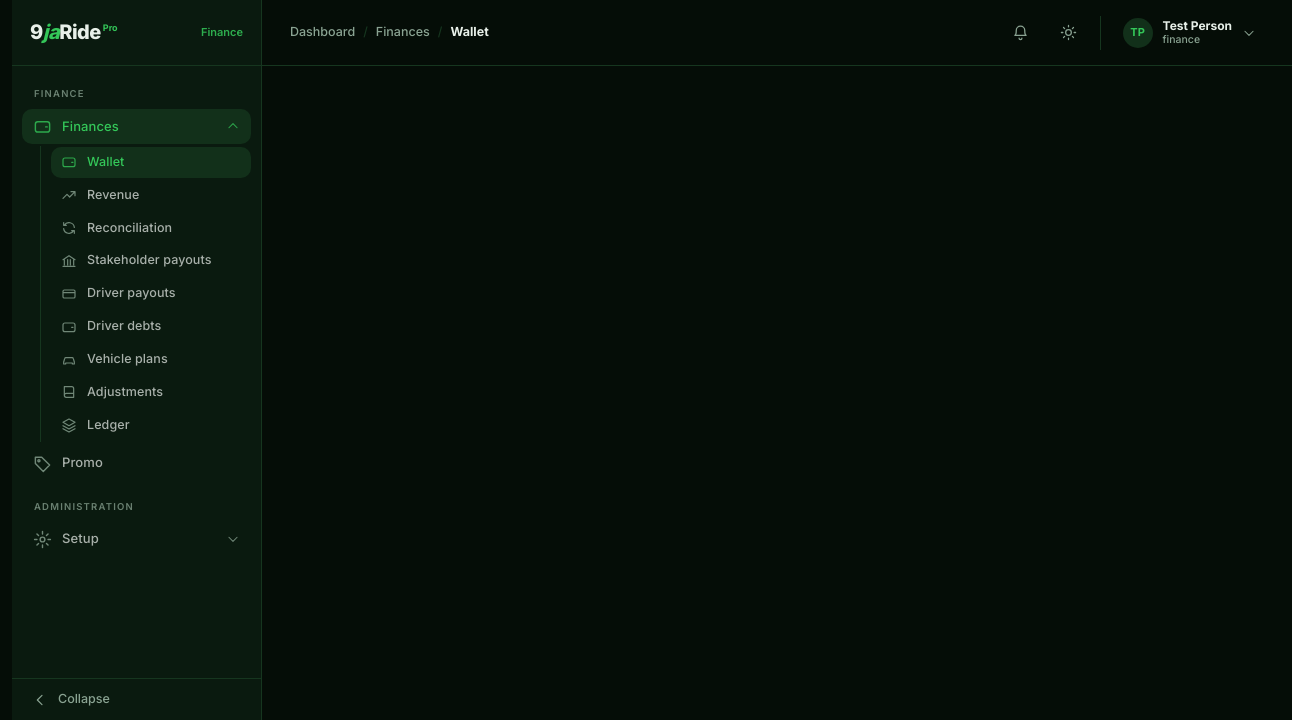
Test: sidebar by role › lets finance reach the revenue rules but not the trip fees
Expected: the text "Test Person" is shown, [1163,18,1232,33]
Click the button "Setup": (136, 539) [22,522,251,556]
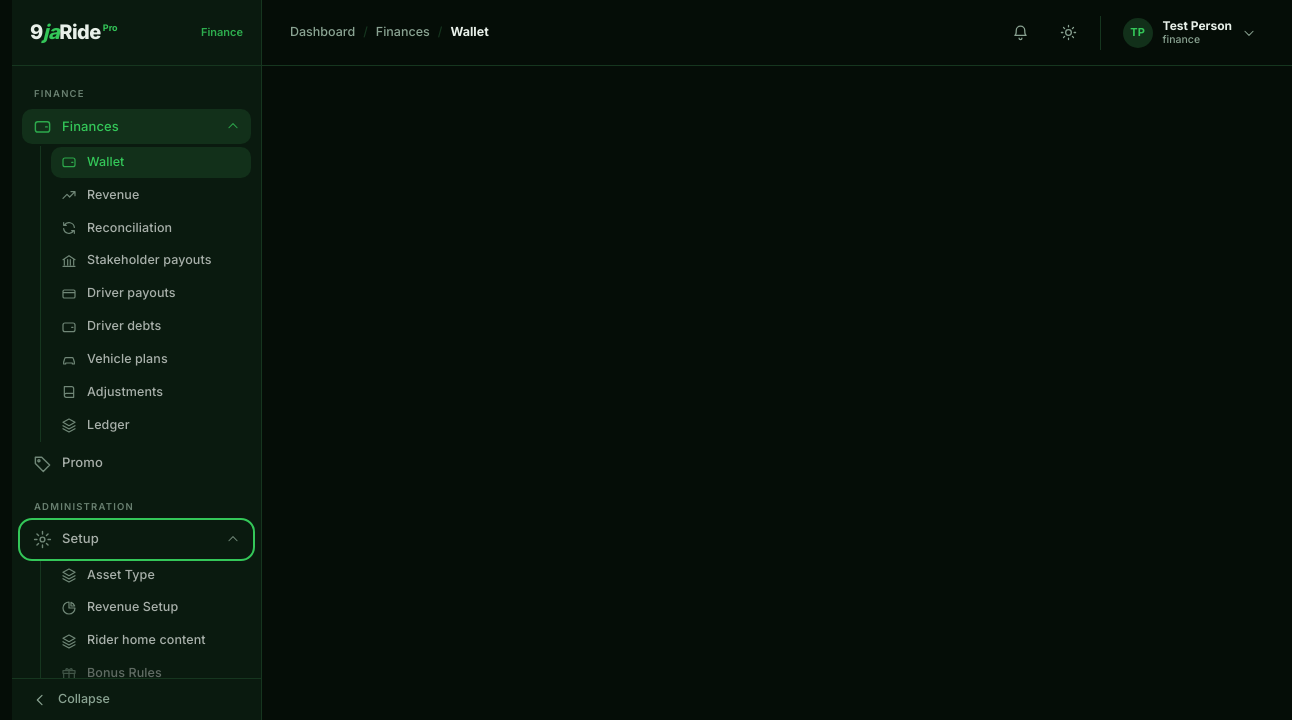
Now the text "Revenue Setup" is shown, box [87,599,178,614]
